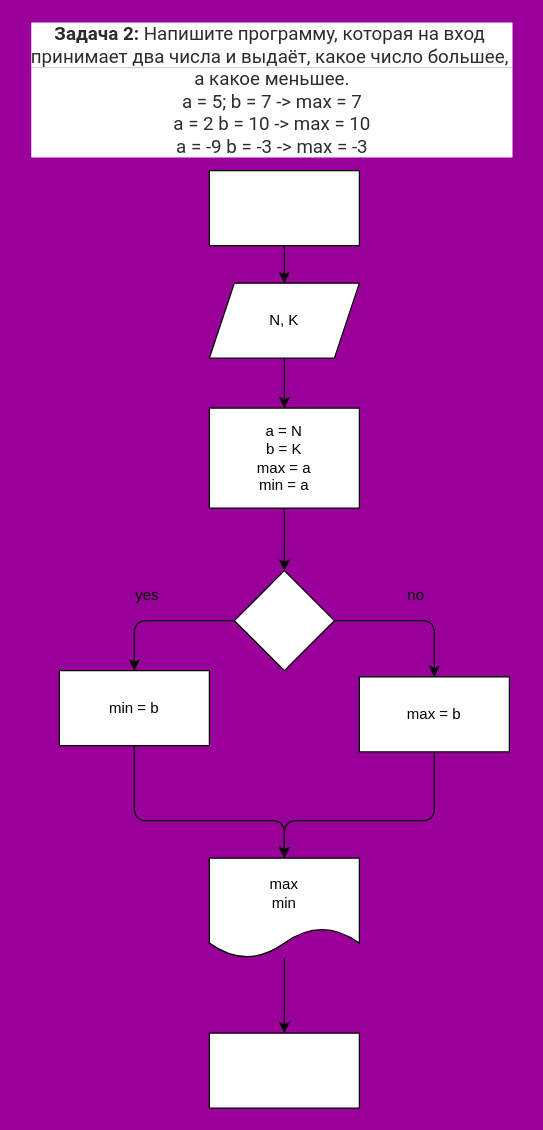
Image size: 543x1130. Some labels were removed from this diagram. The shapes that lost their labels are listed below. From the top down, each one's centre as x and y in pixels, then its label:
At (x=283, y=207): "start".
At (x=283, y=620): "a>b".
At (x=283, y=1070): "end".
